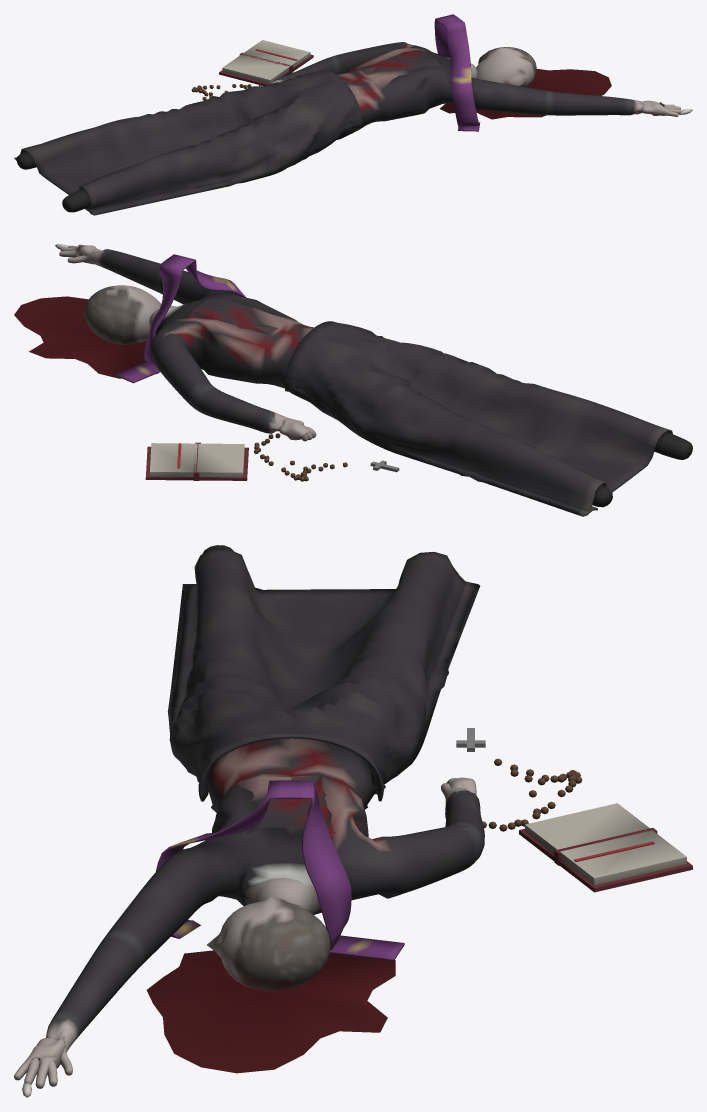
The model's file is dead_exorcist.glb.
3 renders of one model, top to bottom at view 1: azimuth 30°, elevation 25°; view 2: azimuth 150°, elevation 25°; view 3: azimuth 270°, elevation 25°, orthographic. The views are drawn at different scales.
Visible parts, largest first — view 1: DeadExorcist; view 2: DeadExorcist; view 3: DeadExorcist.
Part boxes in pixels (x1=…): DeadExorcist: x1=14, y1=14, x2=692, y2=215; DeadExorcist: x1=14, y1=244, x2=692, y2=516; DeadExorcist: x1=14, y1=545, x2=692, y2=1097.
Size of the model in its own units: 2.23 by 0.306 by 1.21.
